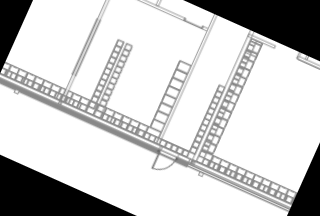door: (149, 149, 178, 179)
wall: (0, 76, 164, 158), (173, 155, 191, 170)
